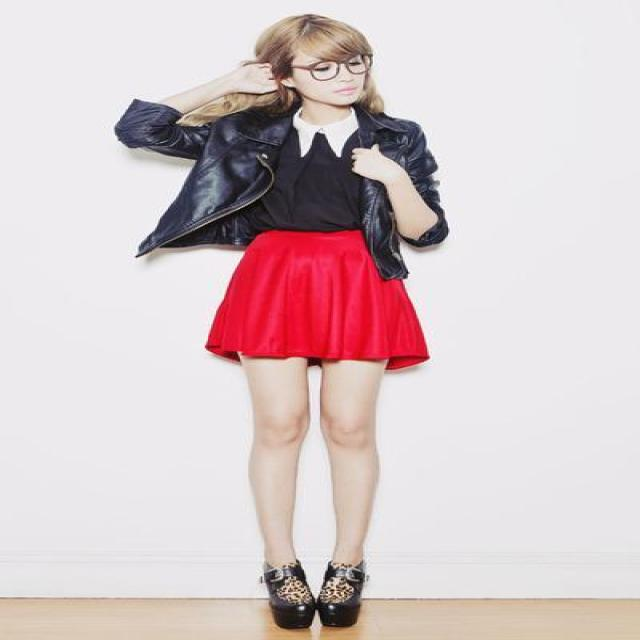jacket: (115, 90, 448, 280)
shirt: (253, 115, 392, 232)
shoe: (259, 564, 379, 630)
skirt: (205, 230, 429, 369)
